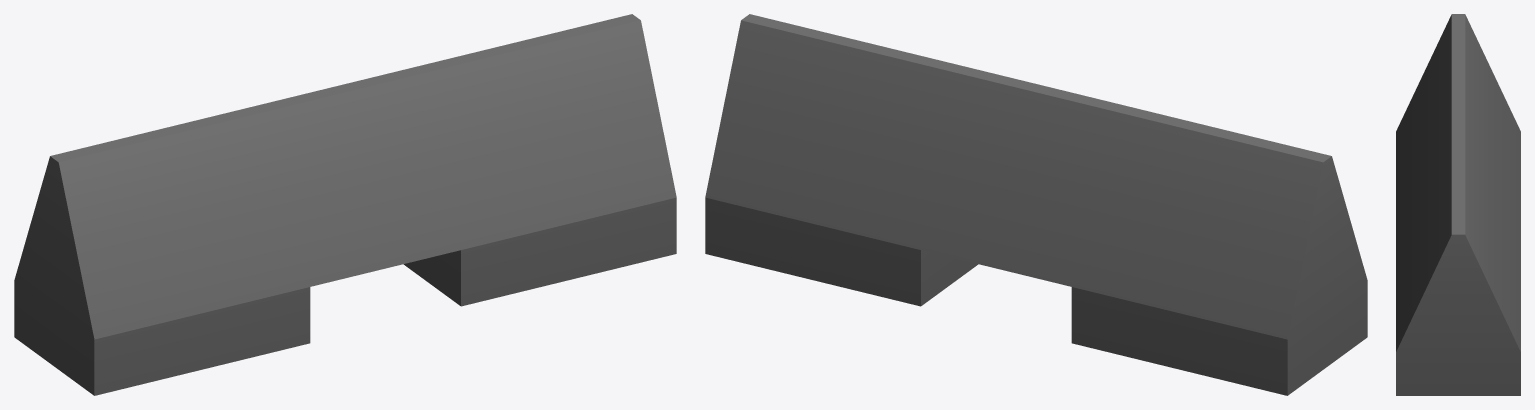
File: block 2.fbx
The picture shows the model from 3 angles, left to right: view 1: azimuth 30°, elevation 25°; view 2: azimuth 150°, elevation 25°; view 3: azimuth 270°, elevation 25°; orthographic projection. The views are drawn at different scales.
Parts seen in each view (by area): view 1: Road Block 2; view 2: Road Block 2; view 3: Road Block 2.
Part boxes in pixels (x1,y1,x2,y2): Road Block 2: (14,14,676,395); Road Block 2: (705,14,1367,395); Road Block 2: (1396,14,1520,395).
Size of the model in its own units: 269 by 91.55 by 64.2.
